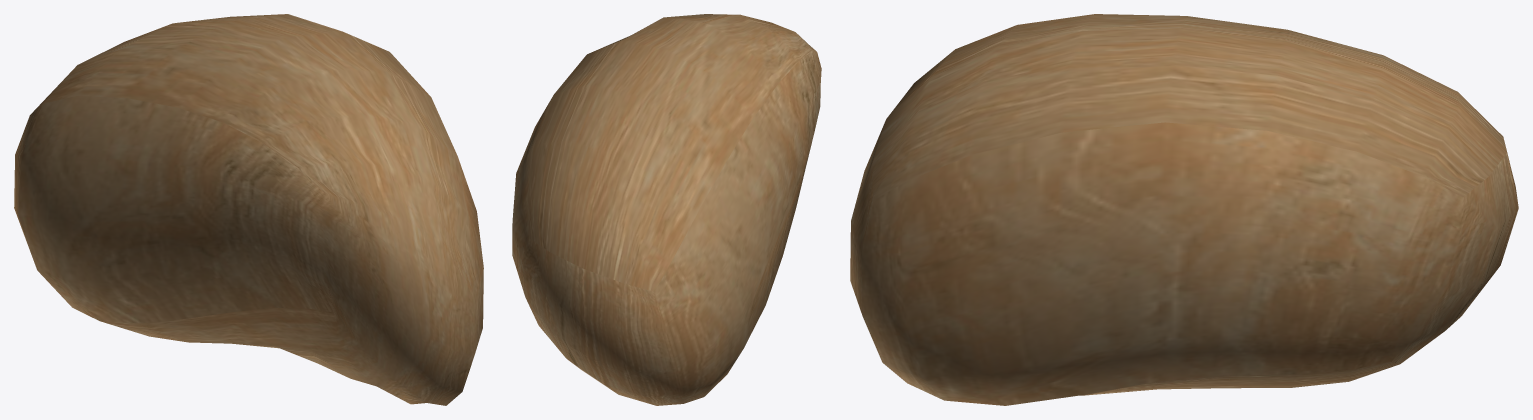
The model's file is rock1.obj.
The picture shows the model from 3 angles, left to right: view 1: azimuth 30°, elevation 25°; view 2: azimuth 150°, elevation 25°; view 3: azimuth 270°, elevation 25°; orthographic projection. The views are drawn at different scales.
Parts seen in each view (by area): view 1: rock1; view 2: rock1; view 3: rock1.
Boxes of the visible parts, box(x1,y1,x2,y2) form: rock1: box(14, 14, 483, 405); rock1: box(512, 14, 821, 405); rock1: box(850, 14, 1518, 405).
Size of the model in its own units: 1.97 by 2.09 by 3.48.
1 material, 1 textured.
